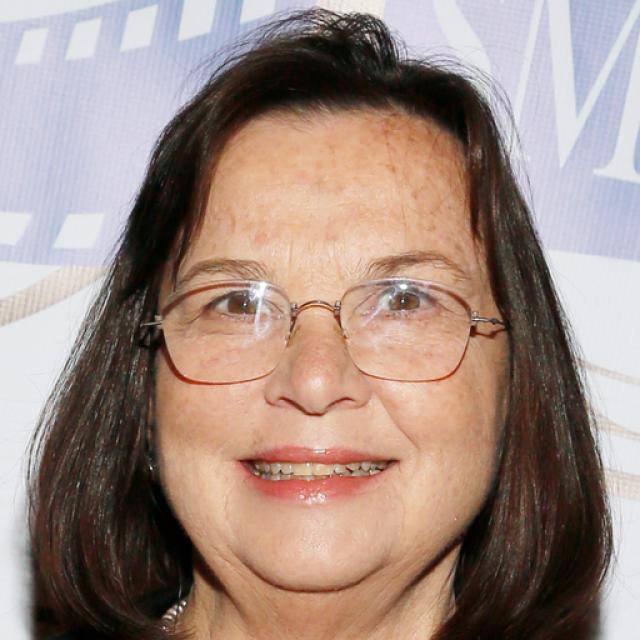Pigmentation: (404, 181, 466, 253), (356, 115, 423, 179), (421, 129, 470, 197), (207, 199, 240, 240), (243, 225, 280, 251)
